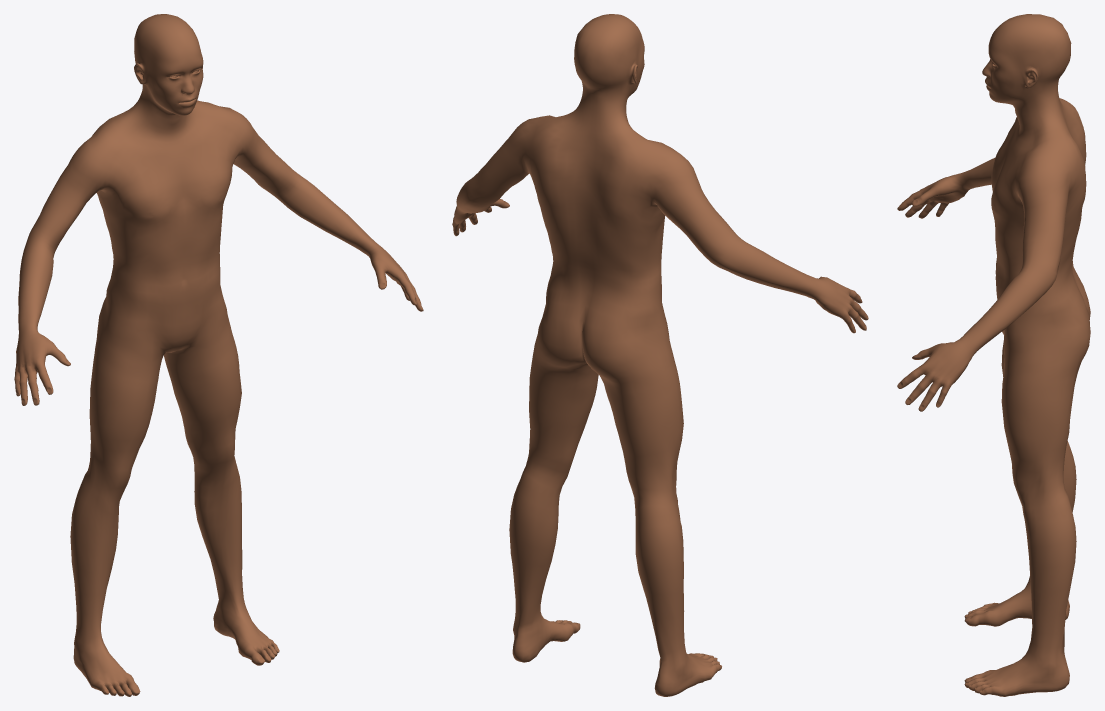
Rendered from mh_male.obj.
The picture shows the model from 3 angles, left to right: view 1: azimuth 30°, elevation 25°; view 2: azimuth 150°, elevation 25°; view 3: azimuth 270°, elevation 25°; orthographic projection.
Parts seen in each view (by area): view 1: Human; view 2: Human; view 3: Human.
Part boxes in pixels (x1,y1,x2,y2): Human: (14, 14, 423, 696); Human: (452, 14, 868, 696); Human: (897, 14, 1090, 696).
Bounding box in the file's own units: 1.13 × 1.73 × 0.4748.
